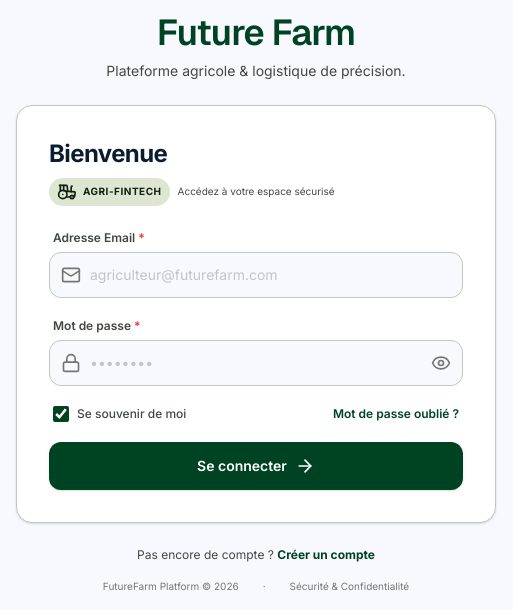
Test case: LoginPage › allows canceling 2FA screen back to standard login form
Type "admin@futurefarm.com" into the field labelled "Adresse Email *" at (256, 274), box [49,252,463,298]
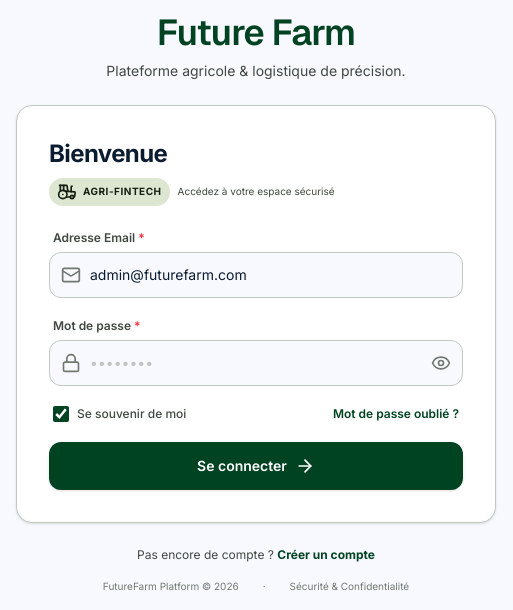
Type "AdminPassword123" into the password field labelled "Mot de passe *" at (256, 362), box [49,340,463,386]
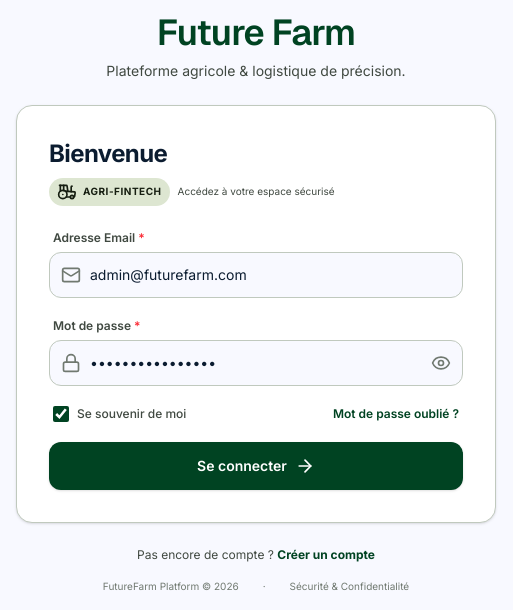
Click the button "Se connecter" at (256, 466), box [49,442,463,490]
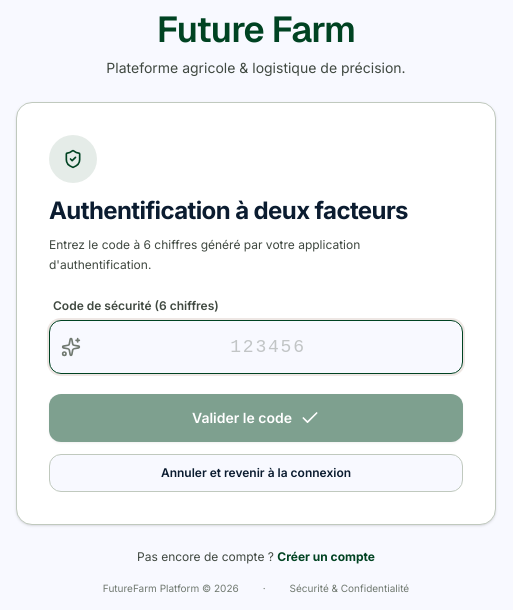
expect the heading "Authentification à deux facteurs" is shown: met, box [49,195,463,227]
Click the button "Annuler et revenir à la connexion" at (256, 473), box [49,454,463,492]
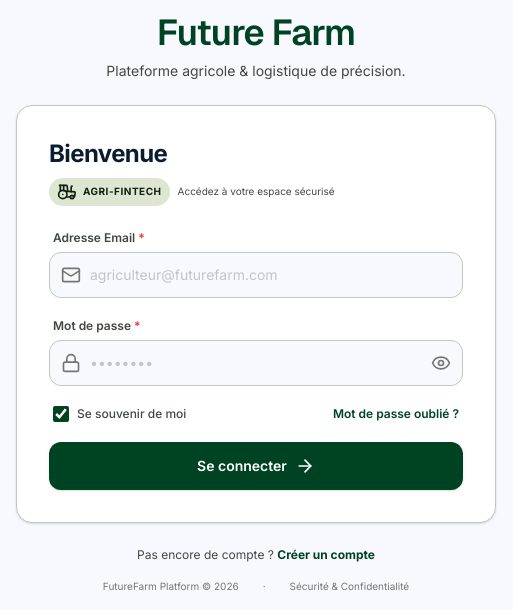
expect the heading "Bienvenue" is shown: met, box [49,138,167,168]
